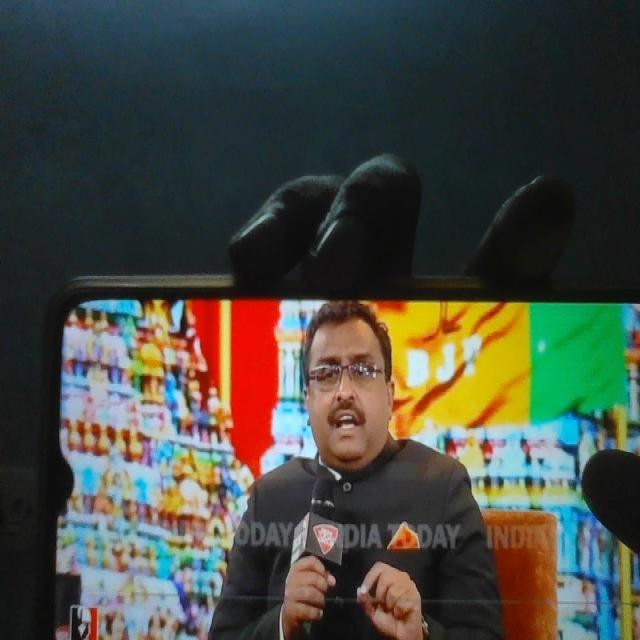fake: (297, 284, 400, 479)
